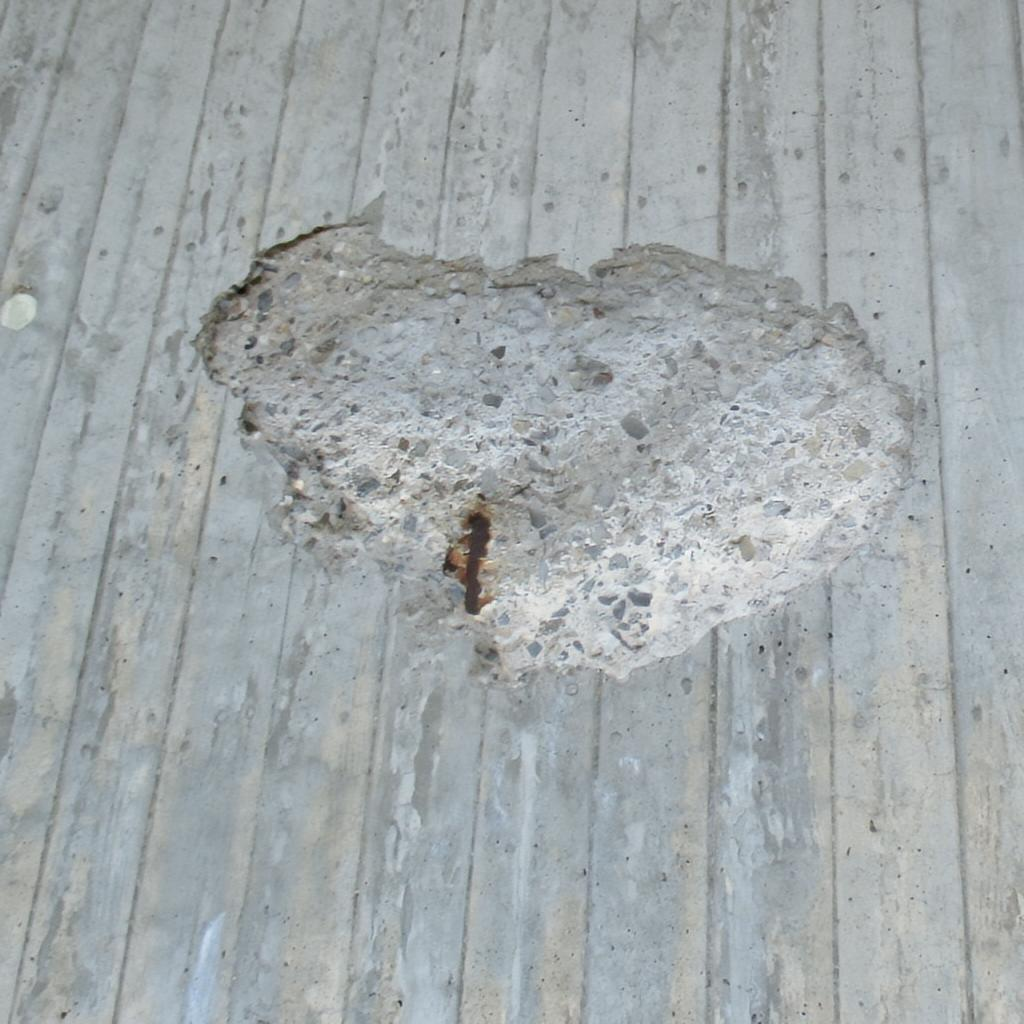exposed_rebar: (462, 512, 490, 613)
spalling: (198, 226, 910, 676)
